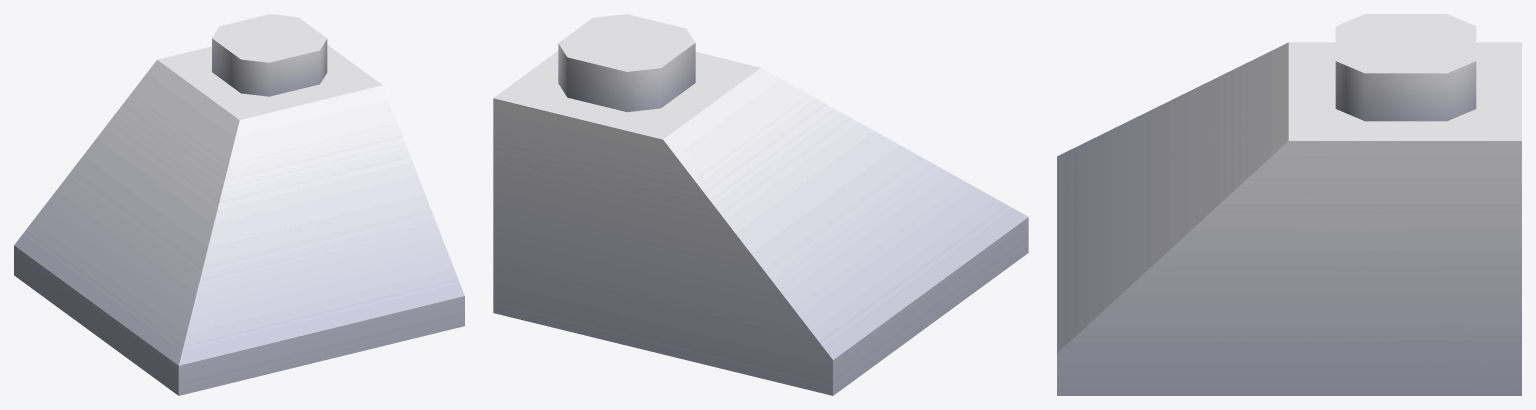
Rendered from bevel_lq_brick_slope_corner_outside_2x2.glb.
The picture shows the model from 3 angles, left to right: view 1: azimuth 30°, elevation 25°; view 2: azimuth 150°, elevation 25°; view 3: azimuth 270°, elevation 25°; orthographic projection. The views are drawn at different scales.
Parts seen in each view (by area): view 1: bevel-lq-brick-slope-corner-outside-2x2; view 2: bevel-lq-brick-slope-corner-outside-2x2; view 3: bevel-lq-brick-slope-corner-outside-2x2.
Part boxes in pixels (box(x1,y1,x2,y2)): bevel-lq-brick-slope-corner-outside-2x2: box(14, 14, 464, 395); bevel-lq-brick-slope-corner-outside-2x2: box(493, 14, 1028, 395); bevel-lq-brick-slope-corner-outside-2x2: box(1057, 14, 1521, 395).
Size of the model in its own units: 0.159 by 0.114 by 0.1585.
Materials: 1 (1 with a texture image).
